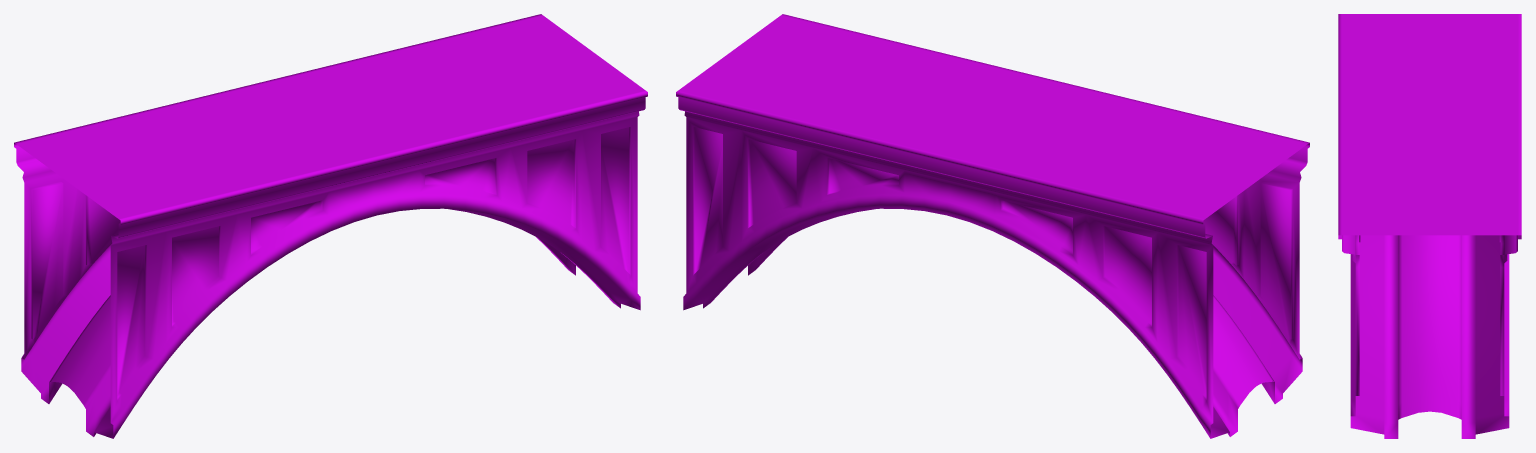
Rendered from SM_GiantArch.fbx.
3 views of the same model, side by side, from view 1: azimuth 30°, elevation 25°; view 2: azimuth 150°, elevation 25°; view 3: azimuth 270°, elevation 25° (orthographic). The views are drawn at different scales.
Visible parts, largest first — view 1: SM_GiantArch; view 2: SM_GiantArch; view 3: SM_GiantArch.
Boxes of the visible parts, x1,y1,x2,y2 form: SM_GiantArch: [14, 14, 647, 438]; SM_GiantArch: [676, 14, 1309, 438]; SM_GiantArch: [1338, 14, 1521, 438].
Size of the model in its own units: 22.48 by 9.63 by 7.88.
